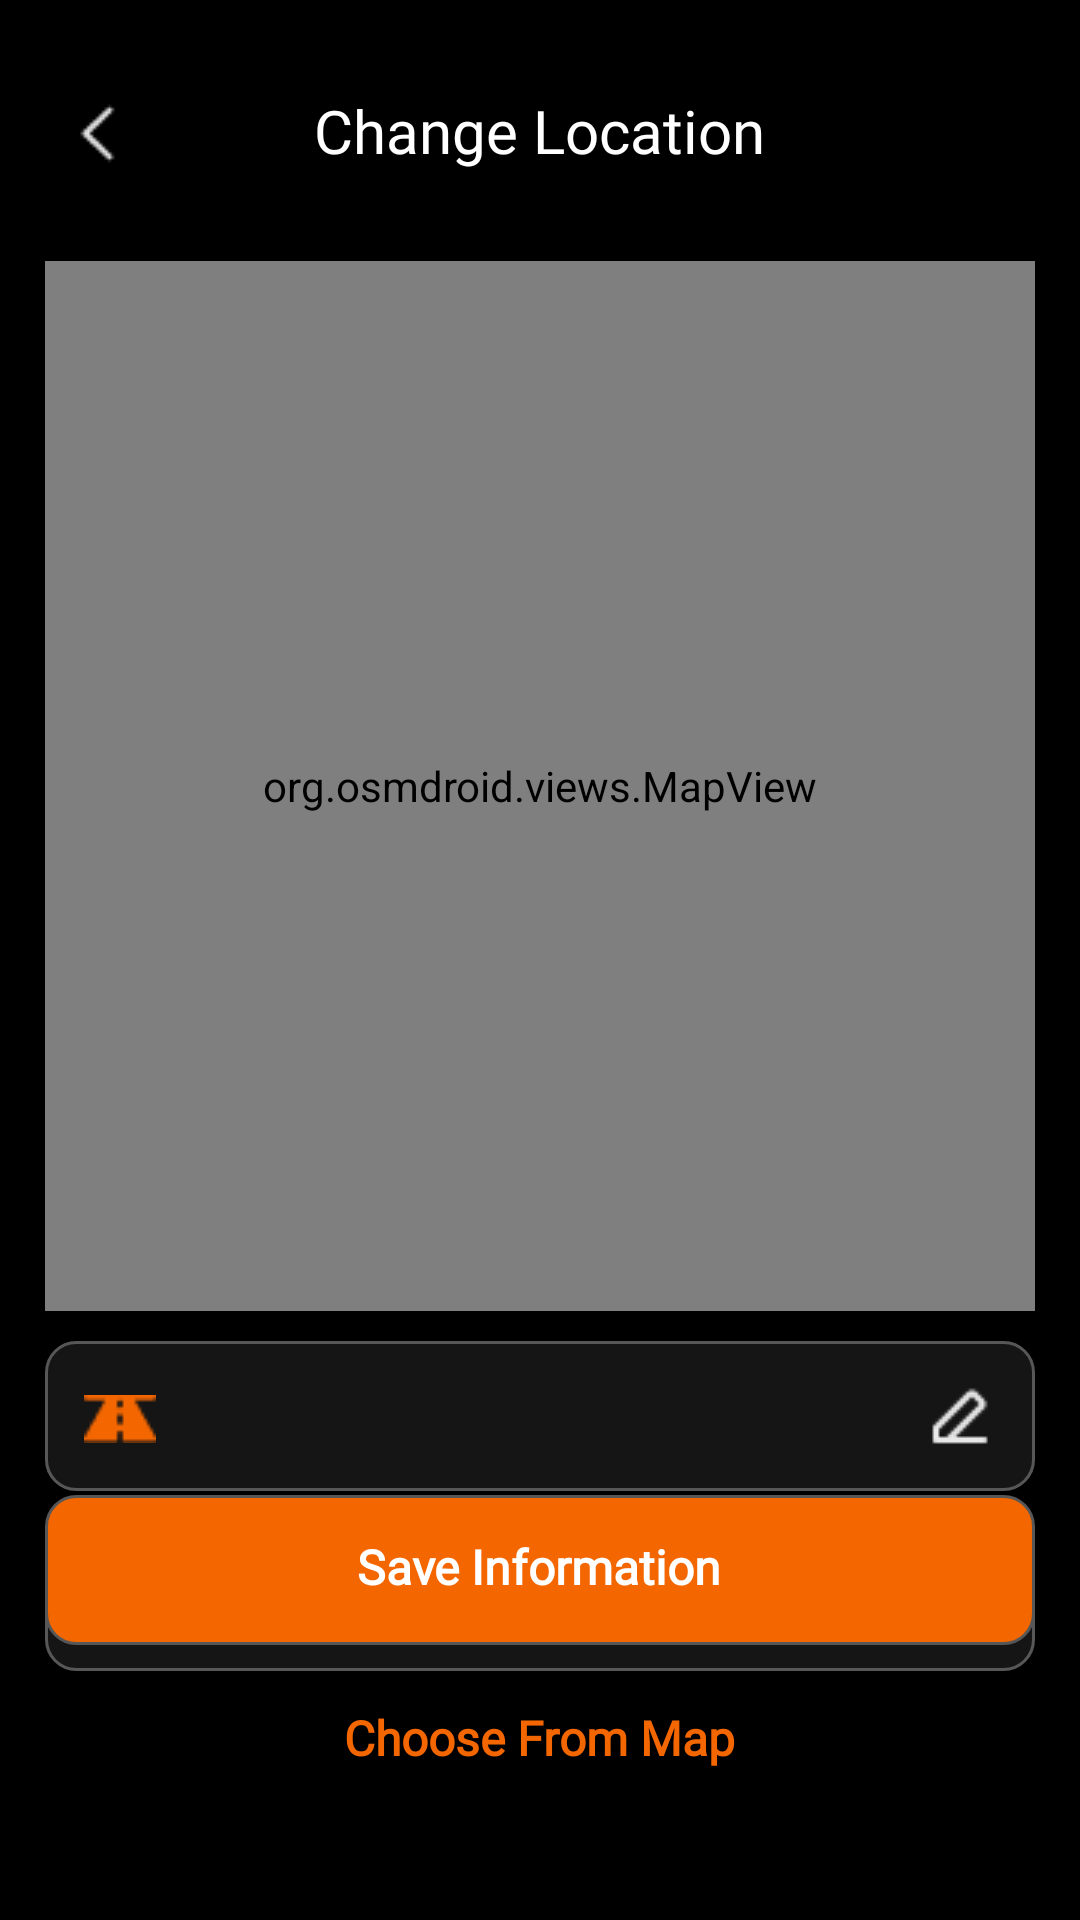

Named icons in this screenshot (1080x1920) and their bounding boxes, [x1, y1, x2, y2]:
chevron left: [80, 105, 115, 162]
road sym: [84, 1395, 156, 1443]
